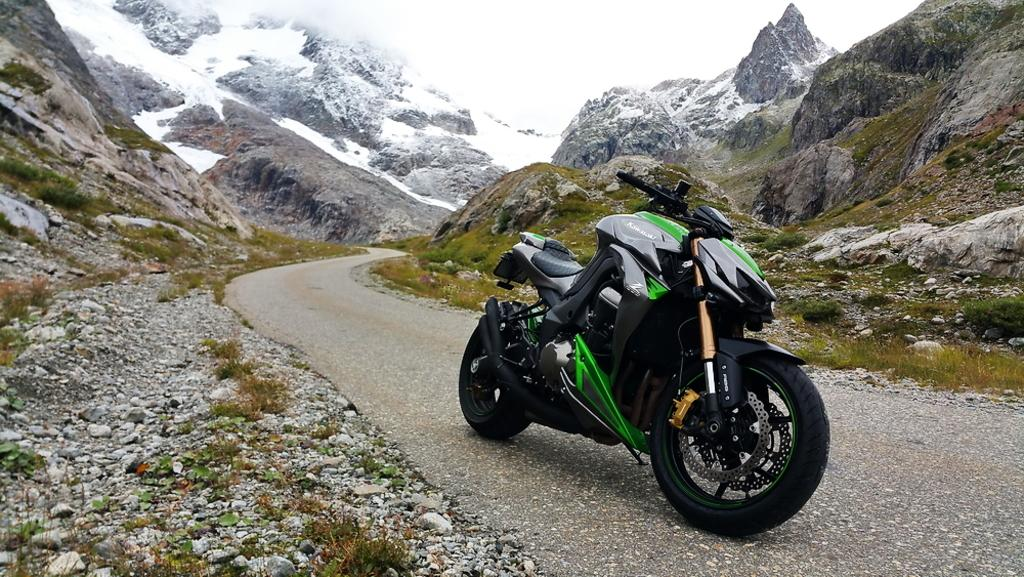Motorcycle: (460, 191, 825, 521)
